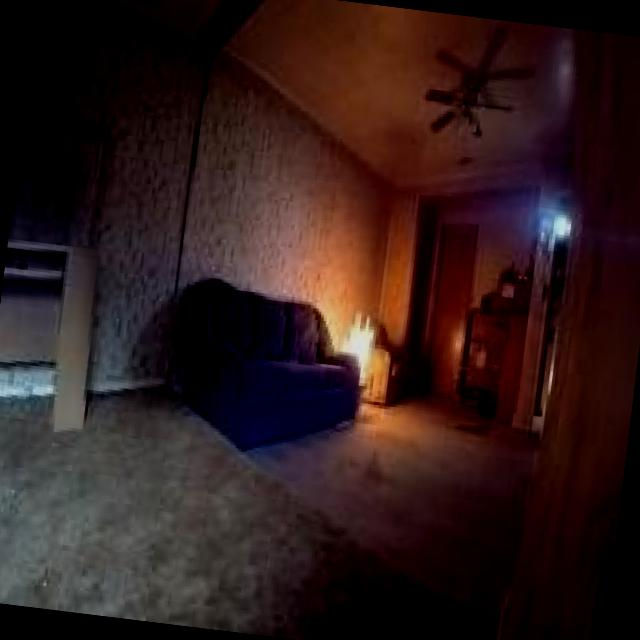fire: (342, 308, 393, 381)
